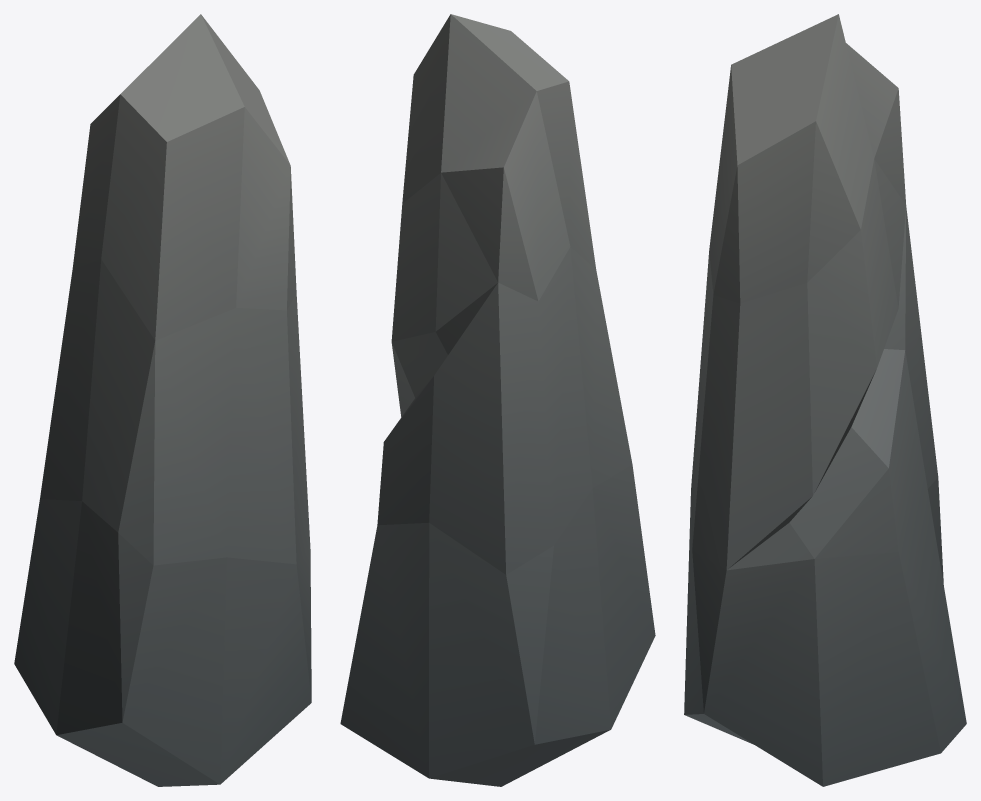
The model's file is Rock_Medium_B.fbx.
3 renders of one model, left to right at view 1: azimuth 30°, elevation 25°; view 2: azimuth 150°, elevation 25°; view 3: azimuth 270°, elevation 25°, orthographic. The views are drawn at different scales.
Visible parts, largest first — view 1: Rock_Medium_B; view 2: Rock_Medium_B; view 3: Rock_Medium_B.
Boxes of the visible parts, <box> form: Rock_Medium_B: <box>14,14,311,786</box>; Rock_Medium_B: <box>340,14,655,786</box>; Rock_Medium_B: <box>684,14,966,786</box>.
Size of the model in its own units: 74.85 by 246 by 80.24.
